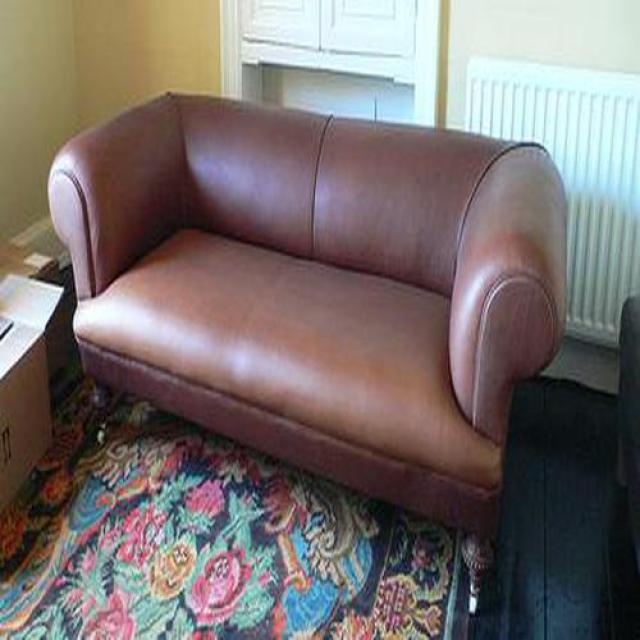sofa: (47, 92, 567, 612)
